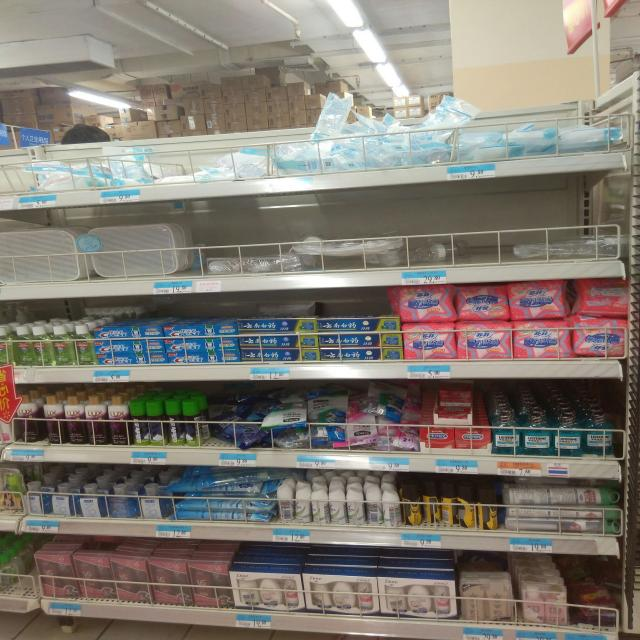void: (473, 198, 506, 263), (0, 124, 27, 190)
